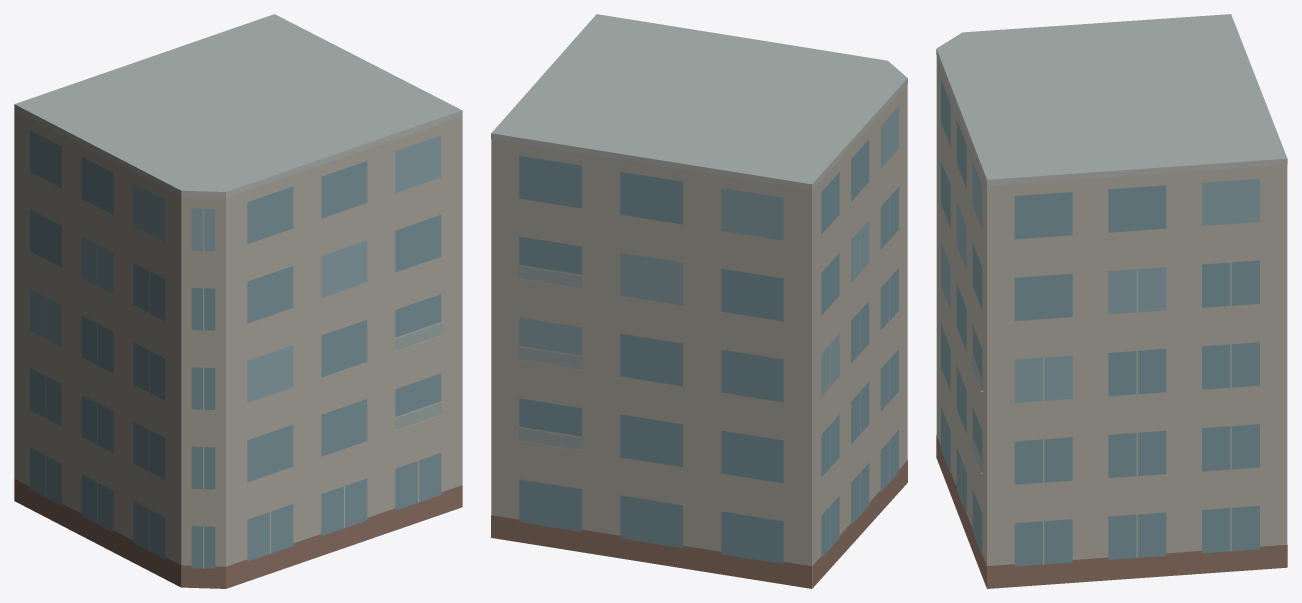
The model's file is survey-upis-32530032.glb.
The picture shows the model from 3 angles, left to right: view 1: azimuth 30°, elevation 25°; view 2: azimuth 150°, elevation 25°; view 3: azimuth 270°, elevation 25°; orthographic projection. The views are drawn at different scales.
Parts seen in each view (by area): view 1: survey-upis-32530032.tmp; view 2: survey-upis-32530032.tmp; view 3: survey-upis-32530032.tmp.
Boxes of the visible parts, box(x1,y1,x2,y2) form: survey-upis-32530032.tmp: box(14, 14, 462, 588); survey-upis-32530032.tmp: box(491, 14, 907, 588); survey-upis-32530032.tmp: box(936, 14, 1287, 588).
Bounding box in the file's own units: 14.18 × 16.3 × 12.69.
